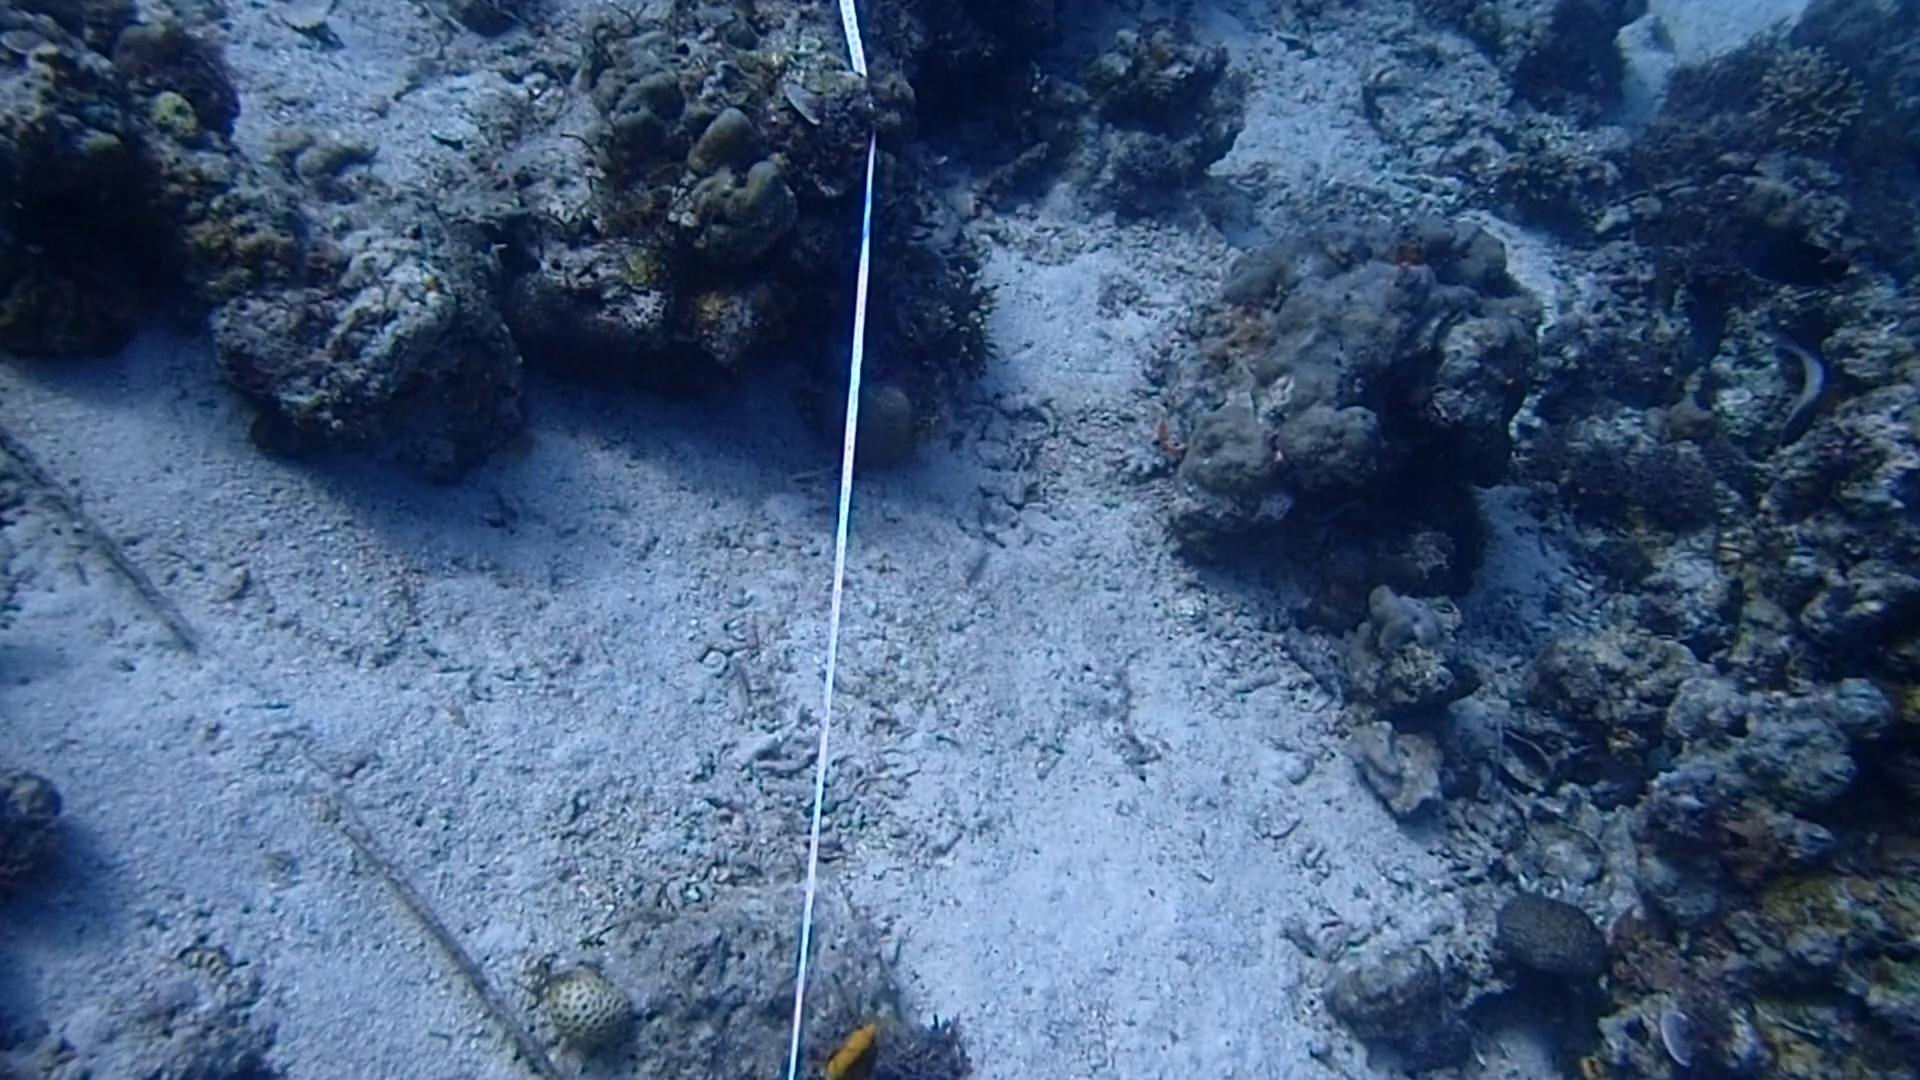Dark Fish: (1727, 214, 1849, 299), (1676, 269, 1735, 367)
